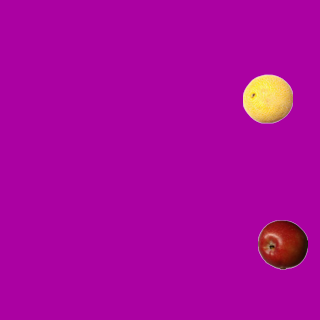Apple Braeburn: (257, 219, 307, 269)
Cantaloupe 1: (242, 73, 292, 123)
